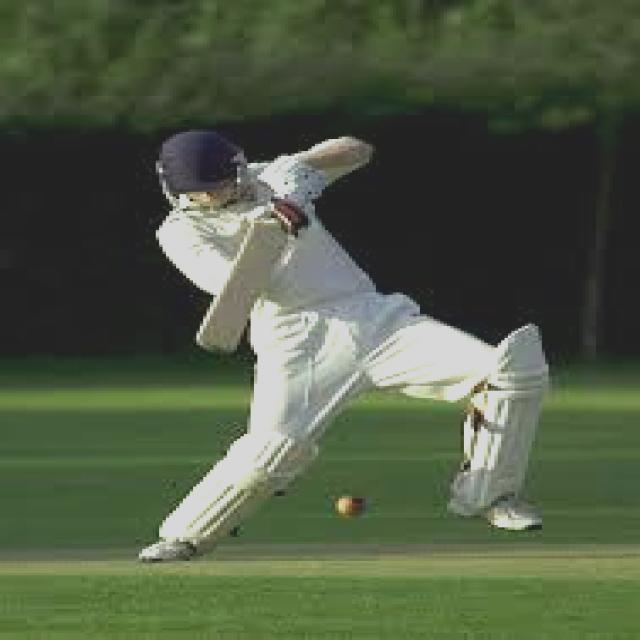toe: (190, 301, 245, 358)
